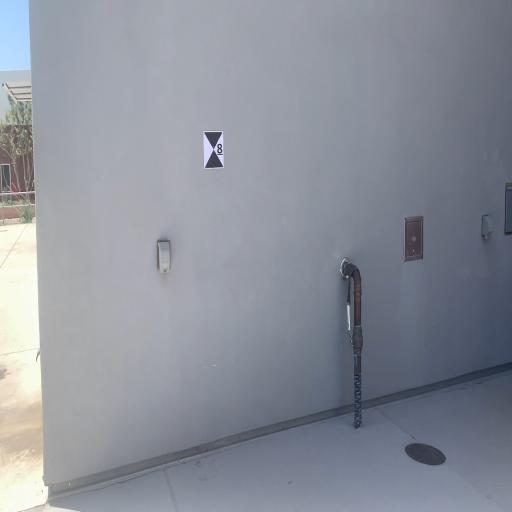target8: (204, 130, 224, 168)
